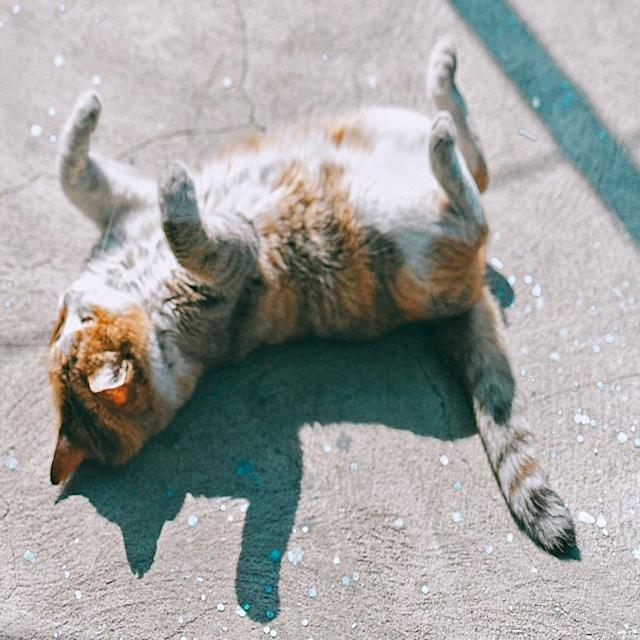cat: (41, 38, 584, 566)
